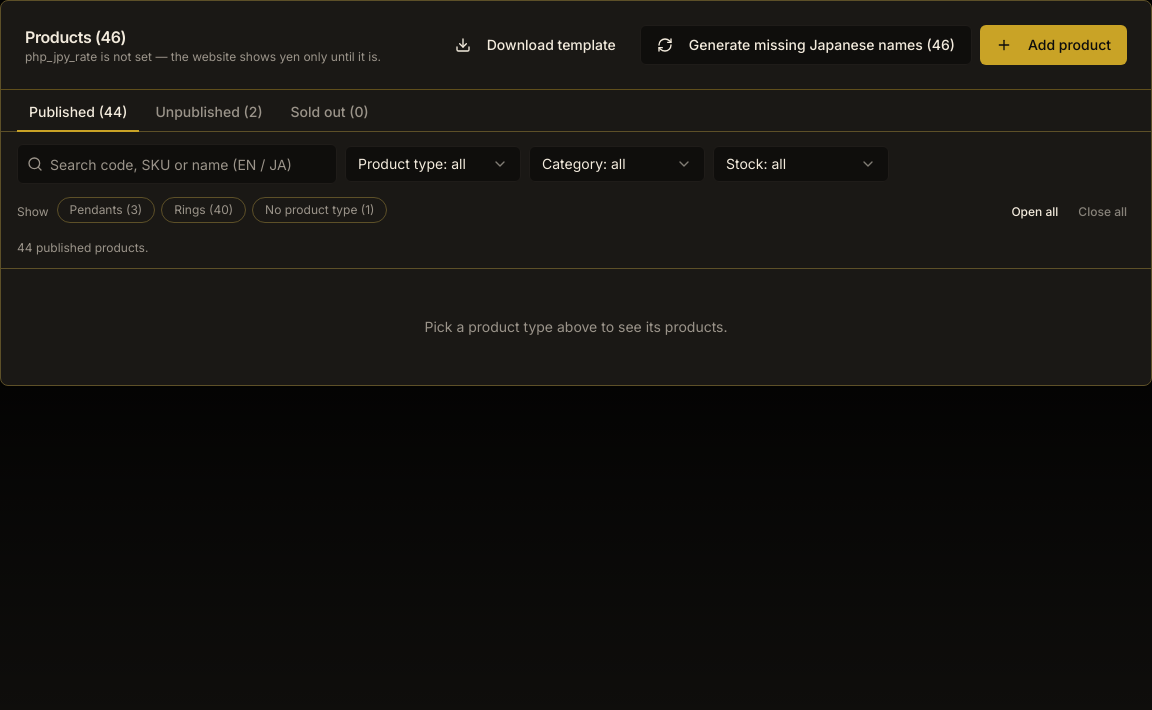
Scenario: Catalog: product types picked by chip, with paging › another chip switches to that type only
The image size is (1152, 710).
Click the button "Pendants (3)" at (106, 210), box top-left (57, 197), bottom-right (155, 223)
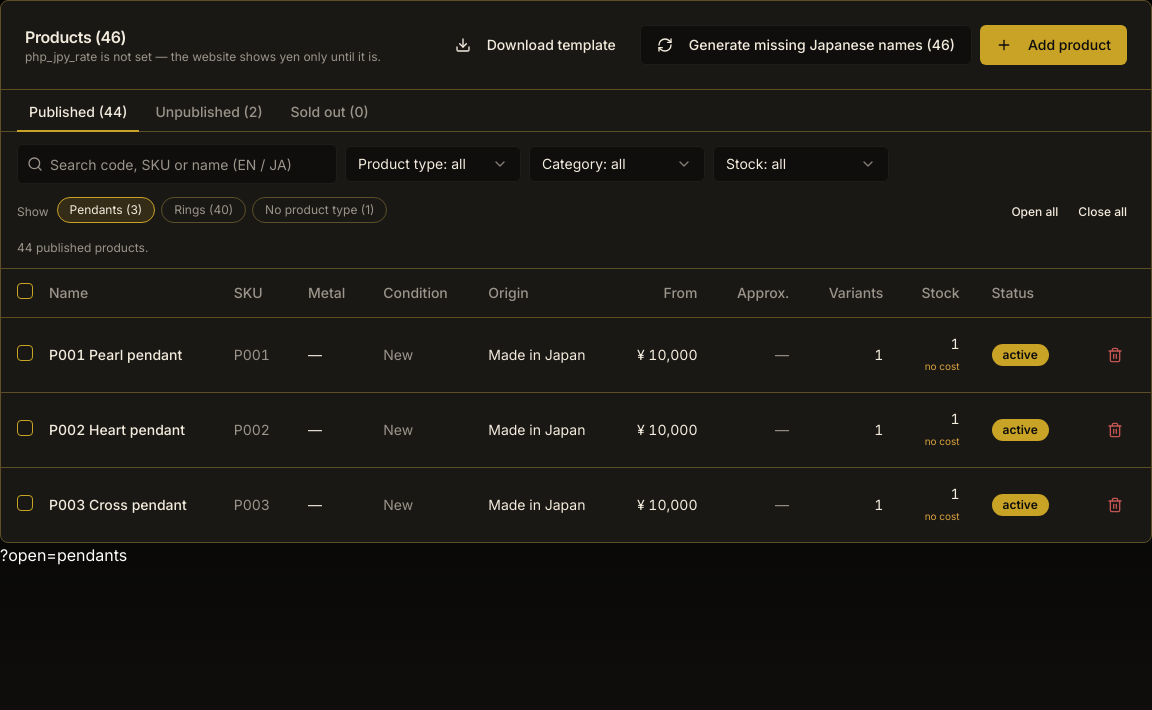
Now the number of checkboxes named "Select P001" is 3, box top-left (17, 344), bottom-right (33, 360); top-left (17, 420), bottom-right (33, 436); top-left (17, 494), bottom-right (33, 510)
Click the button "Rings (40)" at (204, 210), box top-left (161, 197), bottom-right (246, 223)
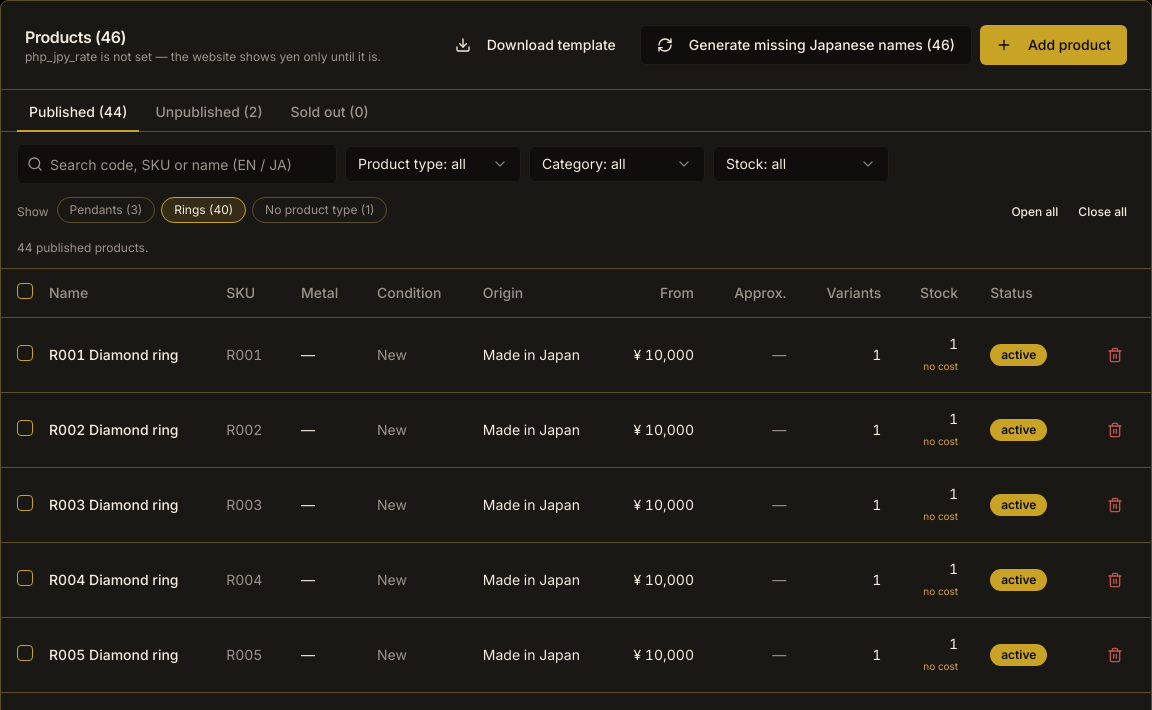
Now the number of checkboxes named "Select R001" is 25
